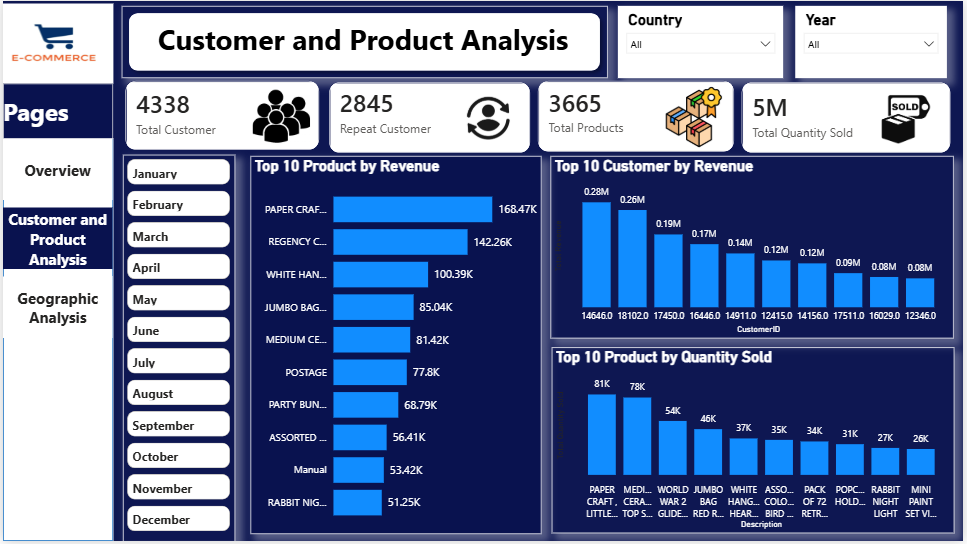

What the dashboard file says about the page in this screenshot:
{"tool":"powerbi","page":{"name":"Customer and Product Analysis","canvas":[1280,720],"ordinal":1},"visuals":[{"type":"image","box":[0,2.7,146.8,107],"z":0},{"type":"shape","box":[157.8,6.9,647.7,96.1],"z":1000},{"type":"advancedSlicerVisual","fields":{"Values":["Custome Calender 1.Date.Variation.Date Hierarchy.Month"]},"box":[160.5,204.5,149.6,516],"z":2000},{"type":"textbox","box":[201.7,20.6,585.9,72.7],"z":3000},{"type":"slicer","fields":{"Values":["Cleaned E-Commerse Data.Country"]},"box":[820,7.1,220,95.7],"z":4000},{"type":"slicer","fields":{"Values":["Custome Calender 1.Date.Variation.Date Hierarchy.Year"]},"box":[1057.1,7.1,201.4,95.7],"z":5000},{"type":"shape","box":[0,183.9,146.8,536.5],"z":6000},{"type":"shape","box":[0,109.8,146.8,74.1],"z":7000},{"type":"pageNavigator","box":[0,183.9,146.8,266.2],"z":8000},{"type":"cardVisual","fields":{"Data":["Cleaned E-Commerse Data.Total Quantity Sold"]},"box":[979.8,102.9,288.2,104.3],"z":9000},{"type":"clusteredBarChart","title":"Top 10 Product by Revenue","fields":{"Y":["Cleaned E-Commerse Data.Total Revenue"],"Category":["Cleaned E-Commerse Data.Description"]},"box":[329.3,207.2,388.3,503.6],"z":10000},{"type":"clusteredColumnChart","title":"Top 10 Product by Quantity Sold","fields":{"Category":["Cleaned E-Commerse Data.Description"],"Y":["Cleaned E-Commerse Data.Total Quantity Sold"]},"box":[731.4,462.4,536.5,248.4],"z":11000},{"type":"cardVisual","fields":{"Data":["Cleaned E-Commerse Data.Total Products"]},"box":[708.1,101.5,271.7,104.3],"z":12000},{"type":"clusteredColumnChart","title":"Top 10 Customer by Revenue","fields":{"Category":["Cleaned E-Commerse Data.CustomerID"],"Y":["Cleaned E-Commerse Data.Total Revenue"]},"box":[730,207.2,537.9,242.9],"z":13000},{"type":"cardVisual","fields":{"Data":["Cleaned E-Commerse Data.Repeat Customer"]},"box":[429.5,102.9,278.6,104.3],"z":14000},{"type":"cardVisual","fields":{"Data":["Cleaned E-Commerse Data.Total Customer"]},"box":[157.8,101.5,269,102.9],"z":15000}]}

Visuals, with their boxes in screenshot pixels (x1, y1, x2, y2), scaled from the page's 1280x720 canvas onto the 967x544 screenshot:
image: 0/2/111/83
shape: 119/5/609/78
advancedSlicerVisual - Custome Calender 1.Date.Variation.Date Hierarchy.Month: 121/155/234/543
textbox: 152/16/595/70
slicer - Cleaned E-Commerse Data.Country: 619/5/786/78
slicer - Custome Calender 1.Date.Variation.Date Hierarchy.Year: 799/5/951/78
shape: 0/139/111/543
shape: 0/83/111/139
pageNavigator: 0/139/111/340
cardVisual - Cleaned E-Commerse Data.Total Quantity Sold: 740/78/958/157
"Top 10 Product by Revenue" clusteredBarChart: 249/157/542/537
"Top 10 Product by Quantity Sold" clusteredColumnChart: 553/349/958/537
cardVisual - Cleaned E-Commerse Data.Total Products: 535/77/740/155
"Top 10 Customer by Revenue" clusteredColumnChart: 551/157/958/340
cardVisual - Cleaned E-Commerse Data.Repeat Customer: 324/78/535/157
cardVisual - Cleaned E-Commerse Data.Total Customer: 119/77/322/154
